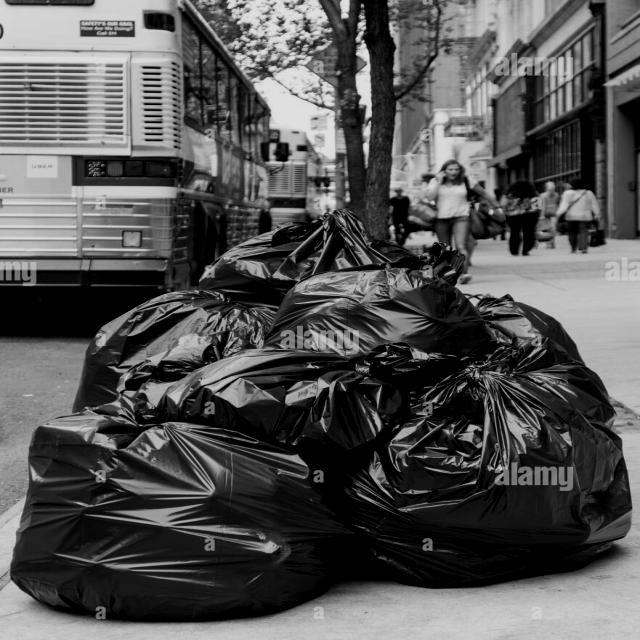high trash: (10, 211, 631, 619)
